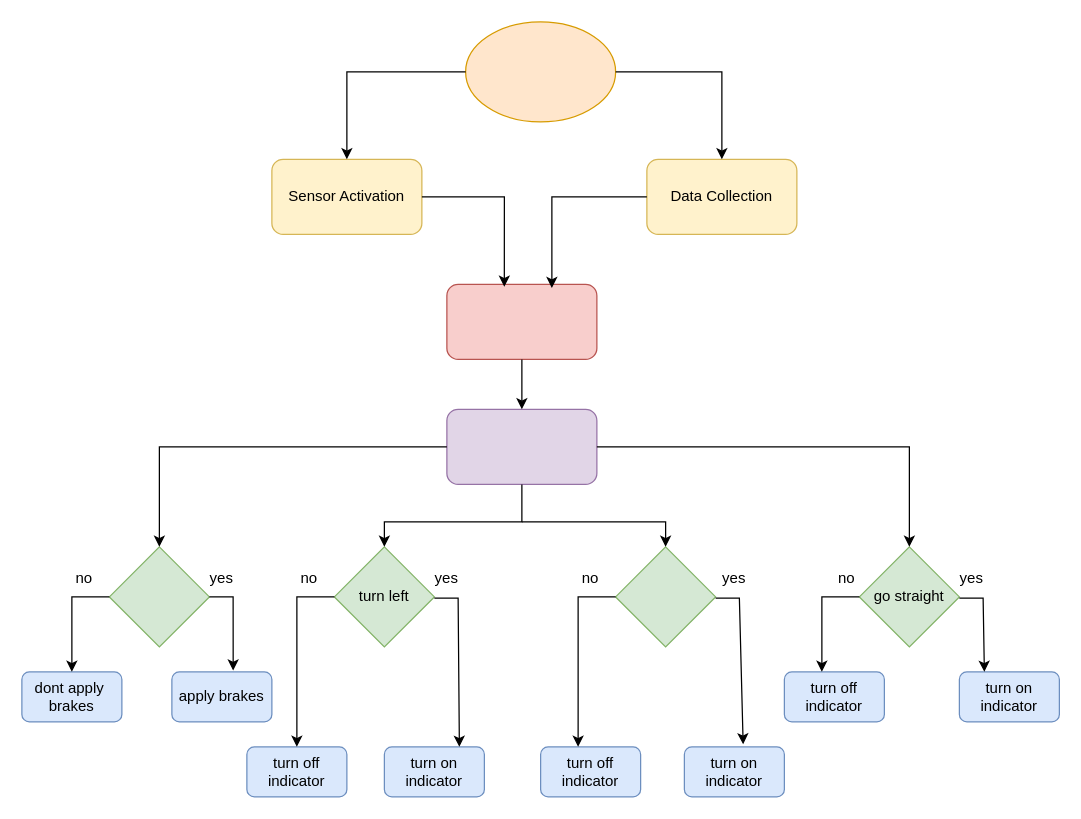
The diagram is 1081 pixels wide and 819 high, and some of its shapes have lost their labels. The centre of each missing label's shape, as x and y in pixels:
"Perception System" goes at pixel 521 446.
"Sensor Fusion" goes at pixel 521 321.
"Start vehicle" goes at pixel 540 71.
"stop" goes at pixel 158 596.
"turn right" goes at pixel 665 596.
